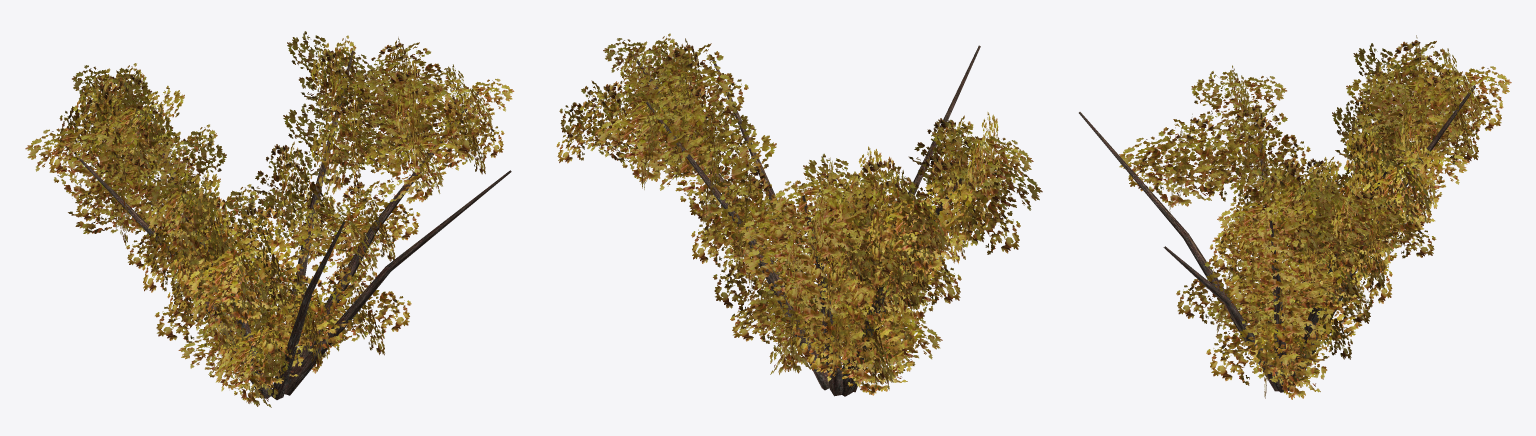
Rendered from bush_3d_06_yellow_lod1.glb.
3 renders of one model, left to right at view 1: azimuth 30°, elevation 25°; view 2: azimuth 150°, elevation 25°; view 3: azimuth 270°, elevation 25°, orthographic. The views are drawn at different scales.
Visible parts, largest first — view 1: foliage_cards, wood_geometry; view 2: foliage_cards, wood_geometry; view 3: foliage_cards, wood_geometry.
Boxes of the visible parts, <box> form: foliage_cards: <box>25,31,514,407</box>; wood_geometry: <box>79,50,511,399</box>; foliage_cards: <box>556,33,1042,395</box>; wood_geometry: <box>631,45,980,396</box>; foliage_cards: <box>1119,35,1511,399</box>; wood_geometry: <box>1079,85,1475,392</box>.
Size of the model in its own units: 2.93 by 1.94 by 2.64.
Materials: 2 (2 with a texture image).
